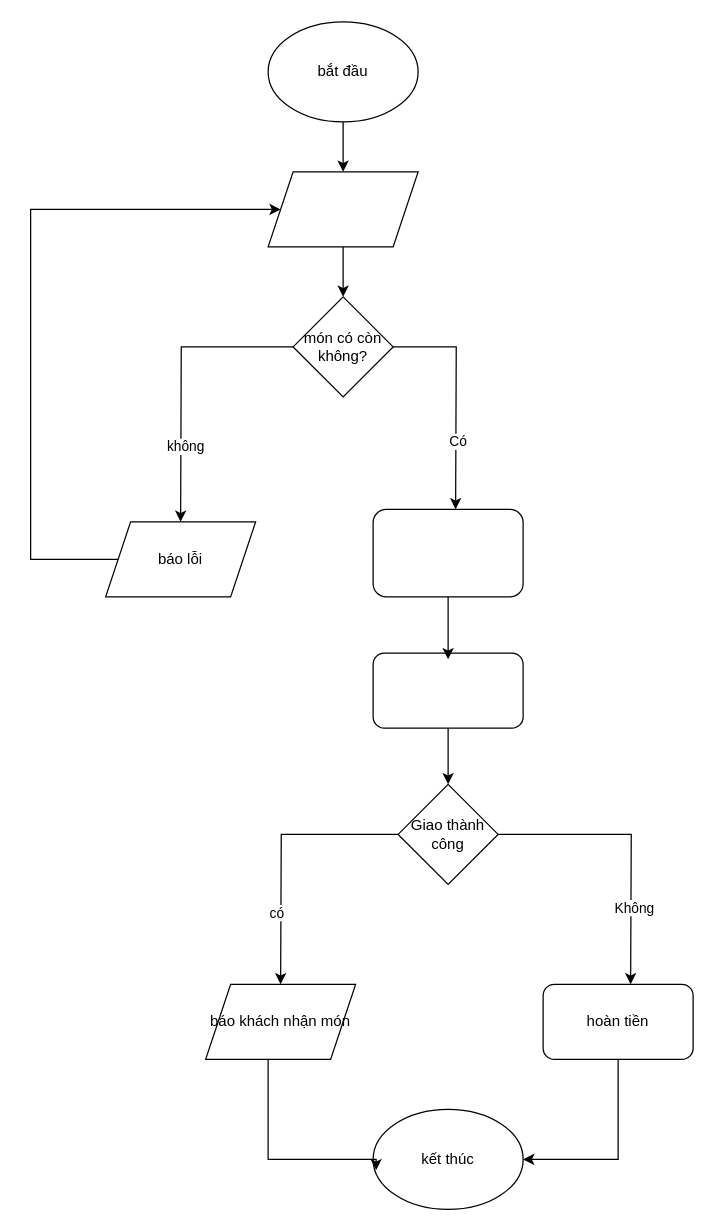
Image size: 715x1231. Some labels were removed from this diagram. The centre of each missing label's shape, as x and y in pixels:
"giao hàng" goes at point (447, 690).
"Nhập món ăn" goes at point (342, 209).
"tạo đơn hàng" goes at point (447, 552).
